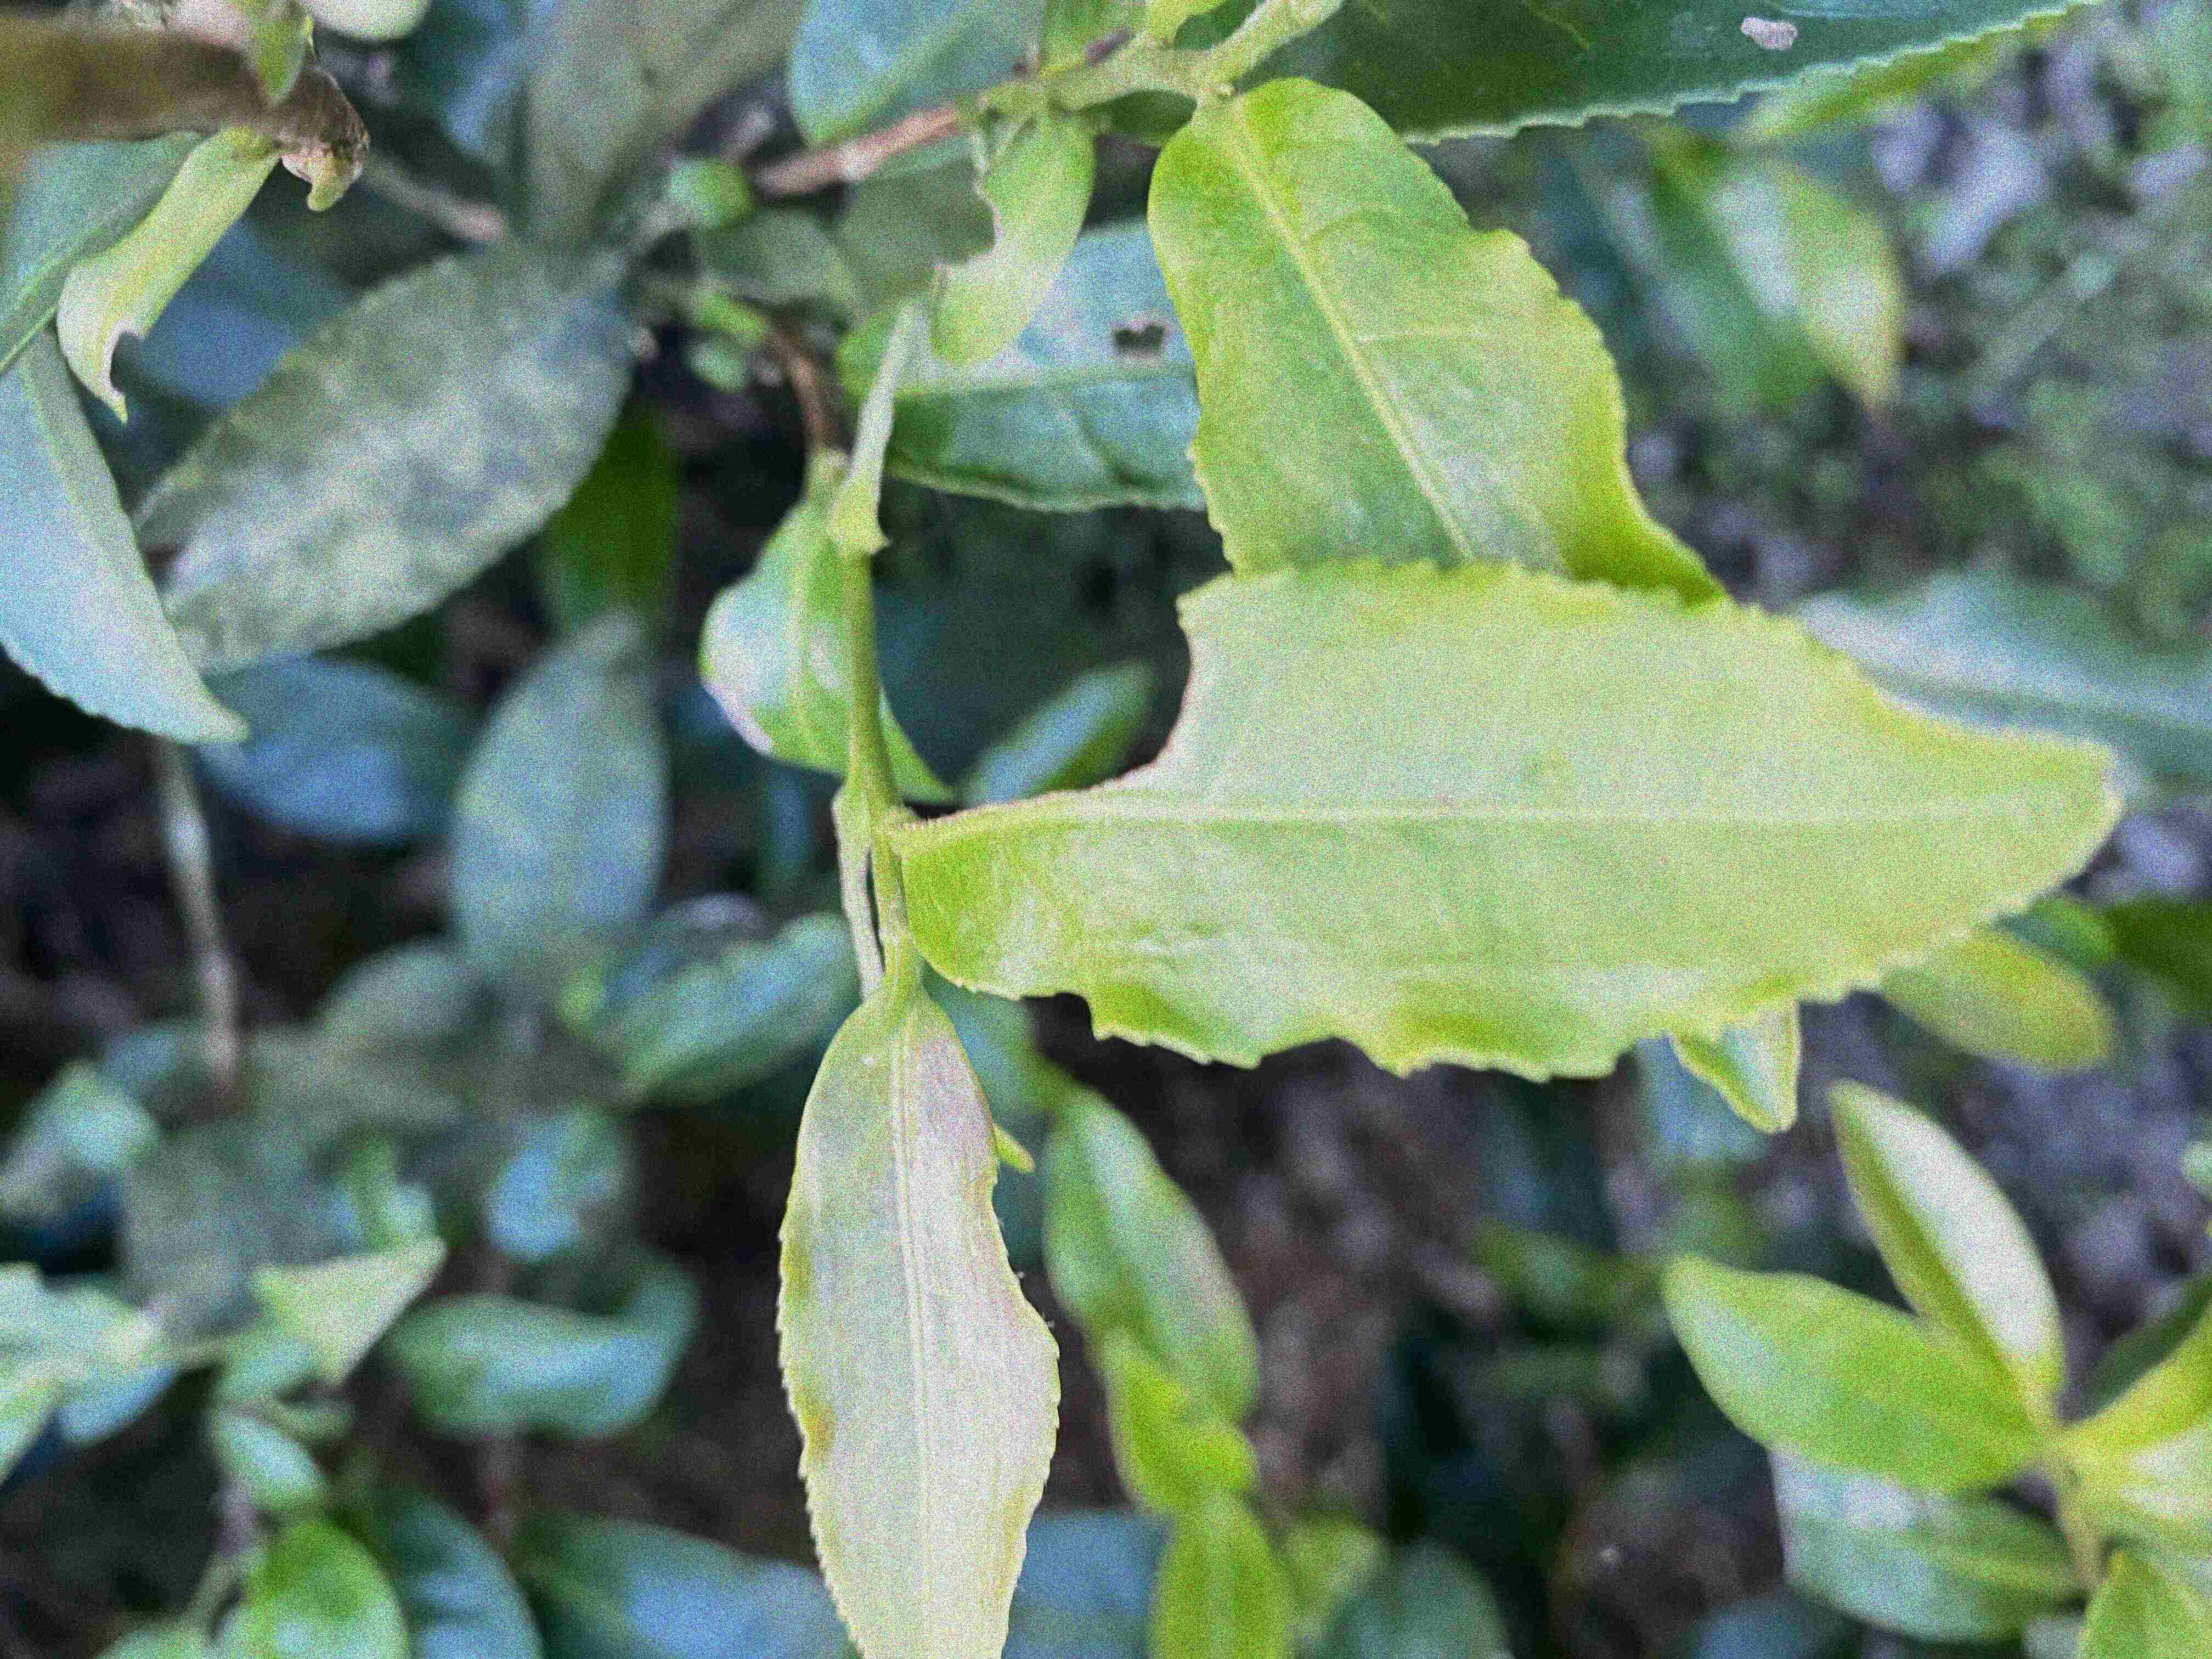chihuo_high: (902, 552, 2127, 1086)
chihuo_low: (51, 136, 277, 430)
tanju_low: (770, 986, 1064, 1657)
